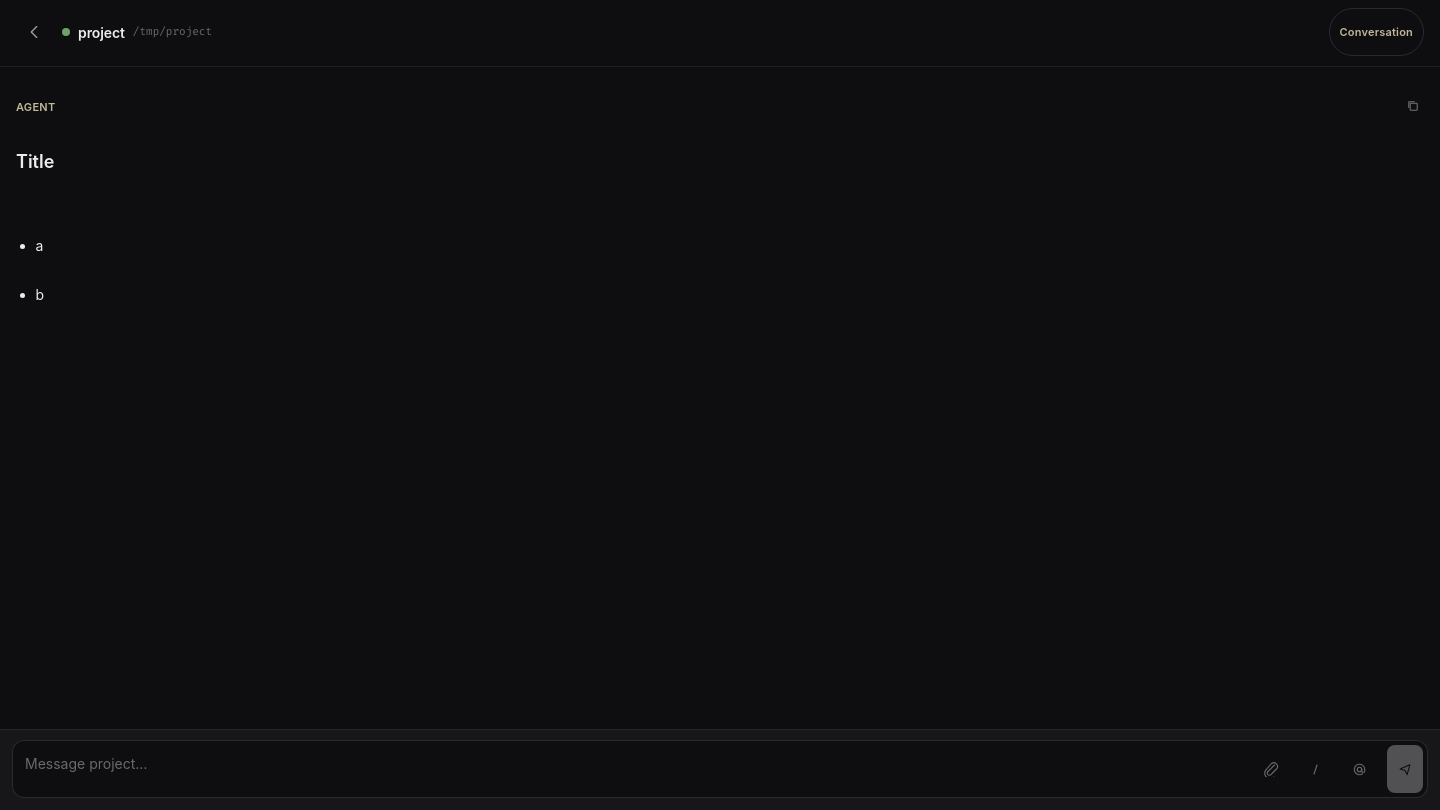
CopyMessageMarkdown › T4: a rejected write tells the user copy failed
Click the button named "Copy message" at (1413, 107), box [1402, 83, 1424, 131]
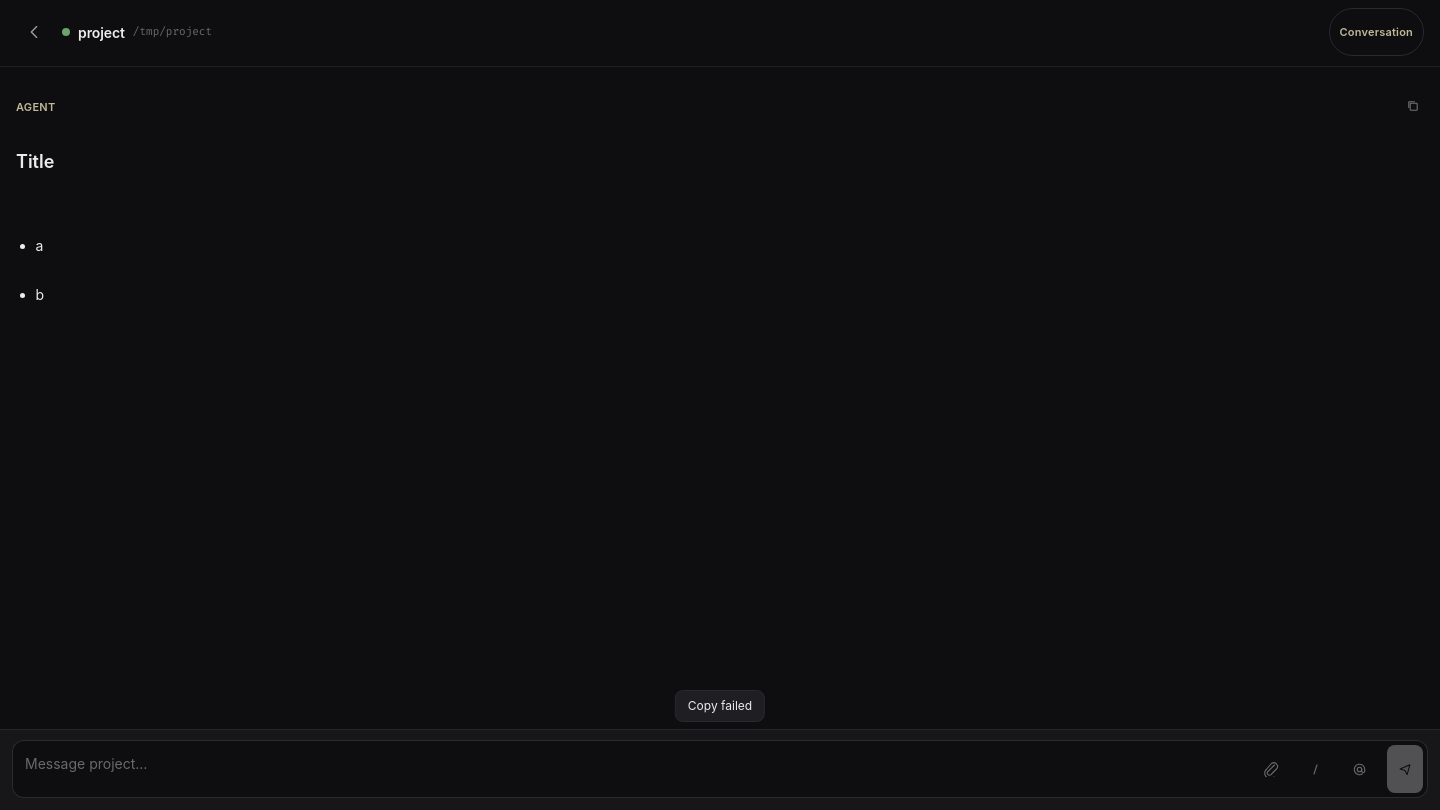
Now the message reads "Copy failed", box [688, 698, 752, 713]
